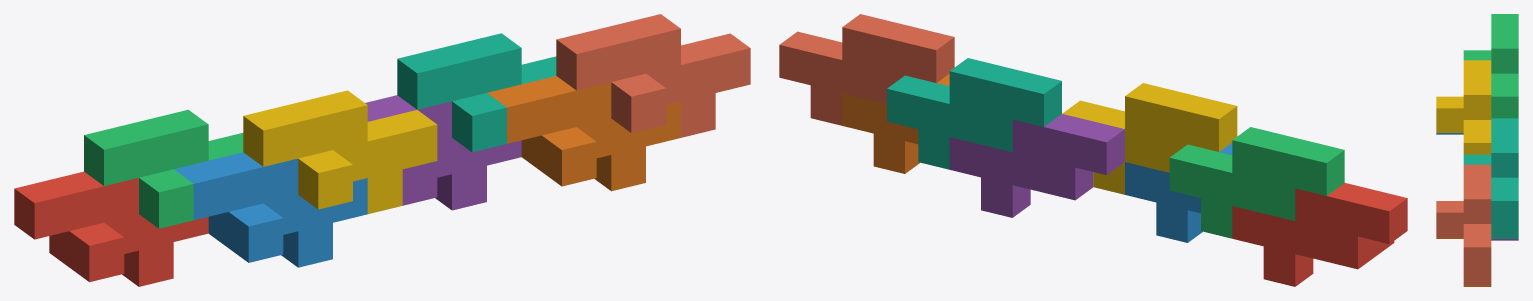
File: tiling.obj
The picture shows the model from 3 angles, left to right: view 1: azimuth 30°, elevation 25°; view 2: azimuth 150°, elevation 25°; view 3: azimuth 270°, elevation 25°; orthographic projection. The views are drawn at different scales.
Parts seen in each view (by area): view 1: copy_1_domain_4, copy_1_domain_8, copy_1_domain_1, copy_1_domain_2, copy_1_domain_6, copy_1_domain_7, copy_1_domain_3, copy_1_domain_5; view 2: copy_1_domain_3, copy_1_domain_7, copy_1_domain_8, copy_1_domain_1, copy_1_domain_5, copy_1_domain_4, copy_1_domain_6, copy_1_domain_2; view 3: copy_1_domain_8, copy_1_domain_4, copy_1_domain_7, copy_1_domain_3, copy_1_domain_6.
Boxes of the visible parts, x1=… form: copy_1_domain_4: x1=243, y1=90, x2=437, y2=214; copy_1_domain_8: x1=556, y1=14, x2=750, y2=137; copy_1_domain_1: x1=14, y1=171, x2=208, y2=286; copy_1_domain_2: x1=174, y1=152, x2=367, y2=267; copy_1_domain_6: x1=487, y1=76, x2=680, y2=191; copy_1_domain_7: x1=397, y1=33, x2=556, y2=152; copy_1_domain_3: x1=84, y1=109, x2=243, y2=228; copy_1_domain_5: x1=365, y1=95, x2=521, y2=210; copy_1_domain_3: x1=1169, y1=127, x2=1344, y2=238; copy_1_domain_7: x1=887, y1=58, x2=1061, y2=169; copy_1_domain_8: x1=779, y1=14, x2=954, y2=125; copy_1_domain_1: x1=1232, y1=183, x2=1407, y2=286; copy_1_domain_5: x1=949, y1=114, x2=1124, y2=217; copy_1_domain_4: x1=1062, y1=83, x2=1237, y2=194; copy_1_domain_6: x1=842, y1=73, x2=949, y2=173; copy_1_domain_2: x1=1125, y1=143, x2=1232, y2=242; copy_1_domain_8: x1=1436, y1=164, x2=1491, y2=285; copy_1_domain_4: x1=1436, y1=60, x2=1491, y2=154; copy_1_domain_7: x1=1463, y1=118, x2=1518, y2=238; copy_1_domain_3: x1=1463, y1=14, x2=1518, y2=118; copy_1_domain_6: x1=1436, y1=237, x2=1491, y2=286.
Bounding box in the file's own units: 20 × 4 × 3.
